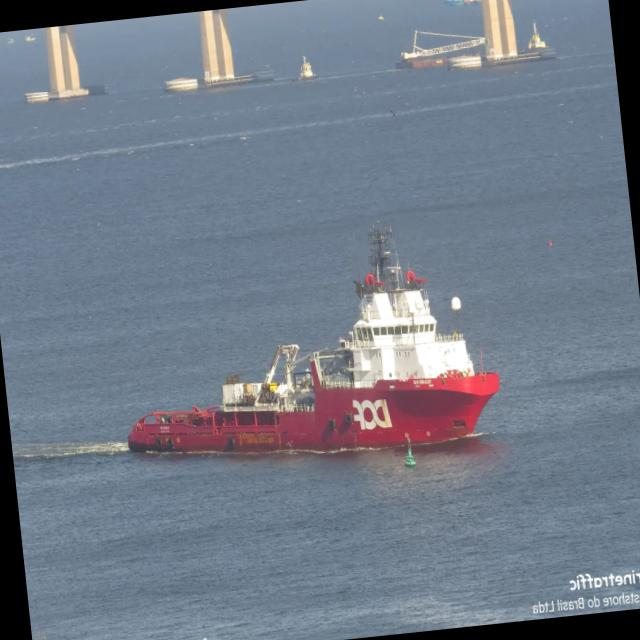Offshore: (128, 231, 499, 452)
